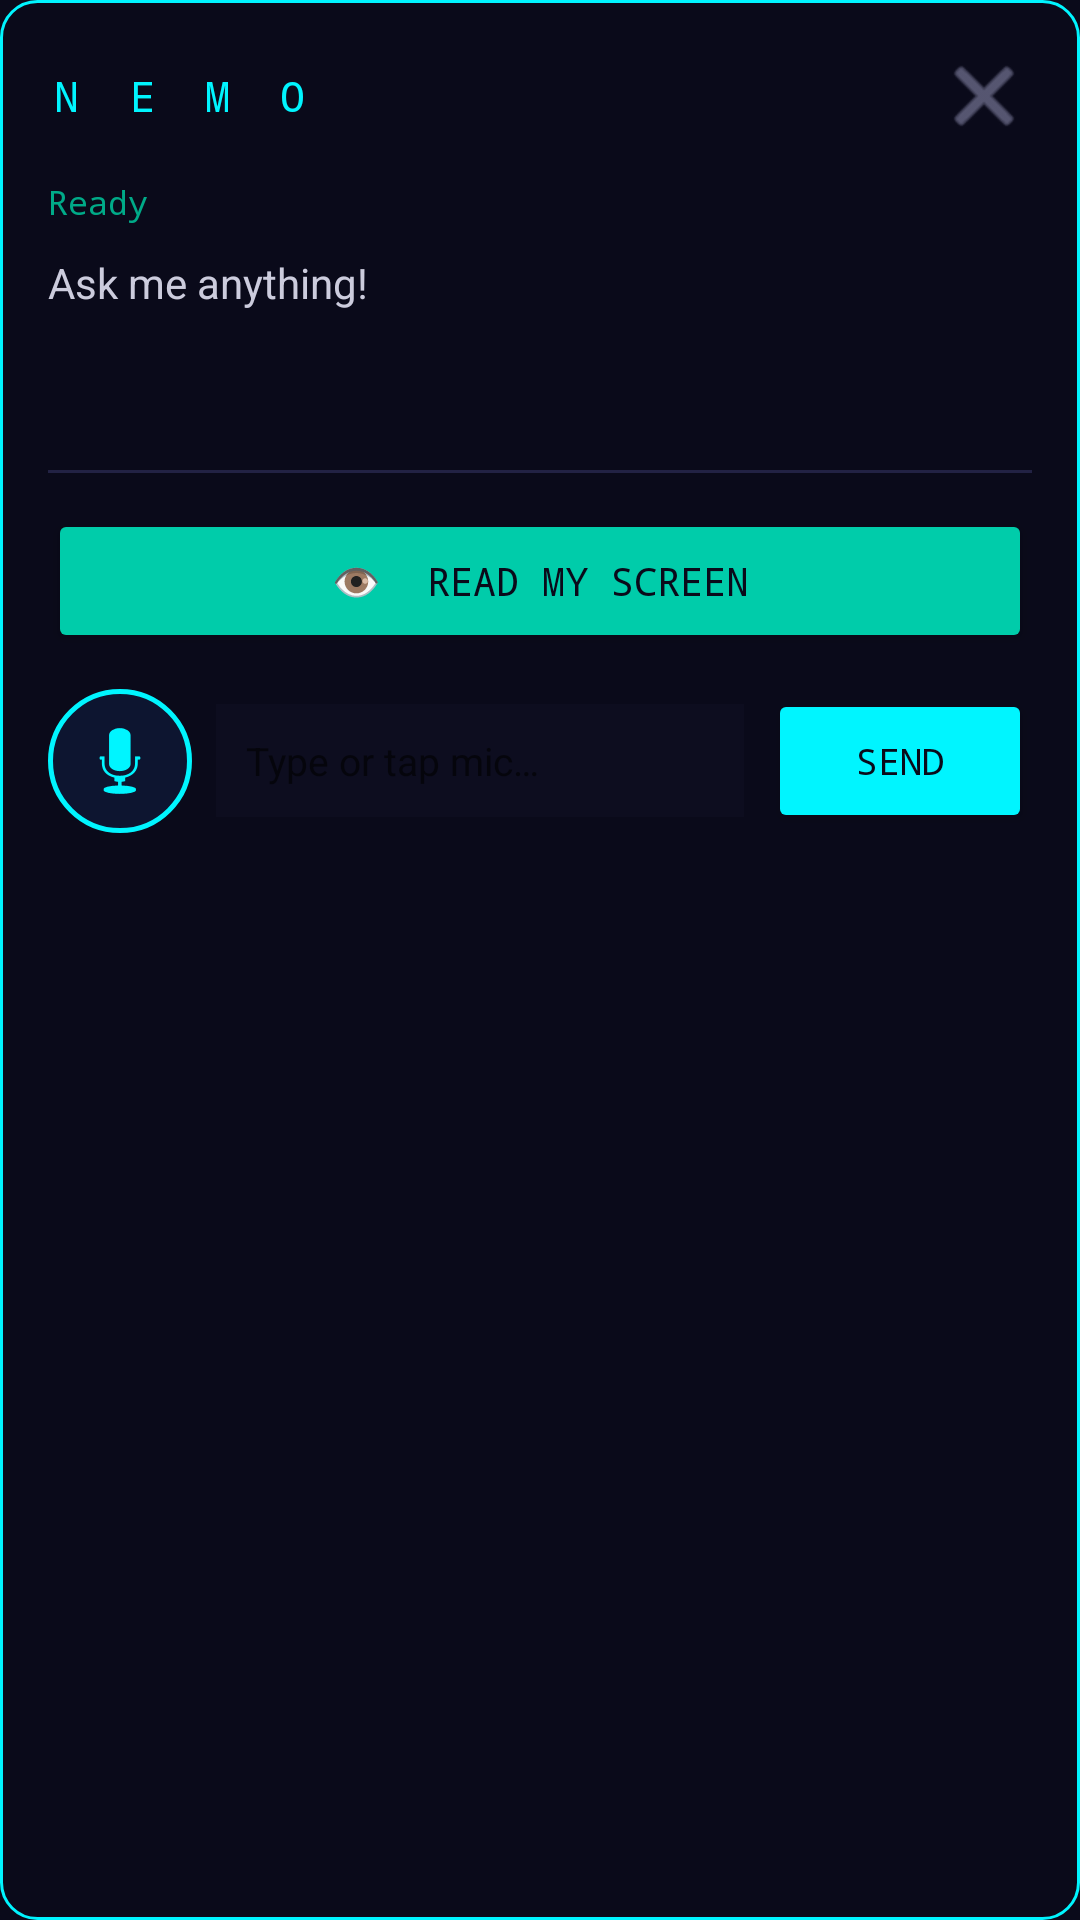

Icon bounding boxes for this 1080px×1920px phone screenshot, format (x1, y1, x2, y2):
close clear cancel: (954, 66, 1014, 126)
speak now: (48, 689, 192, 833)
